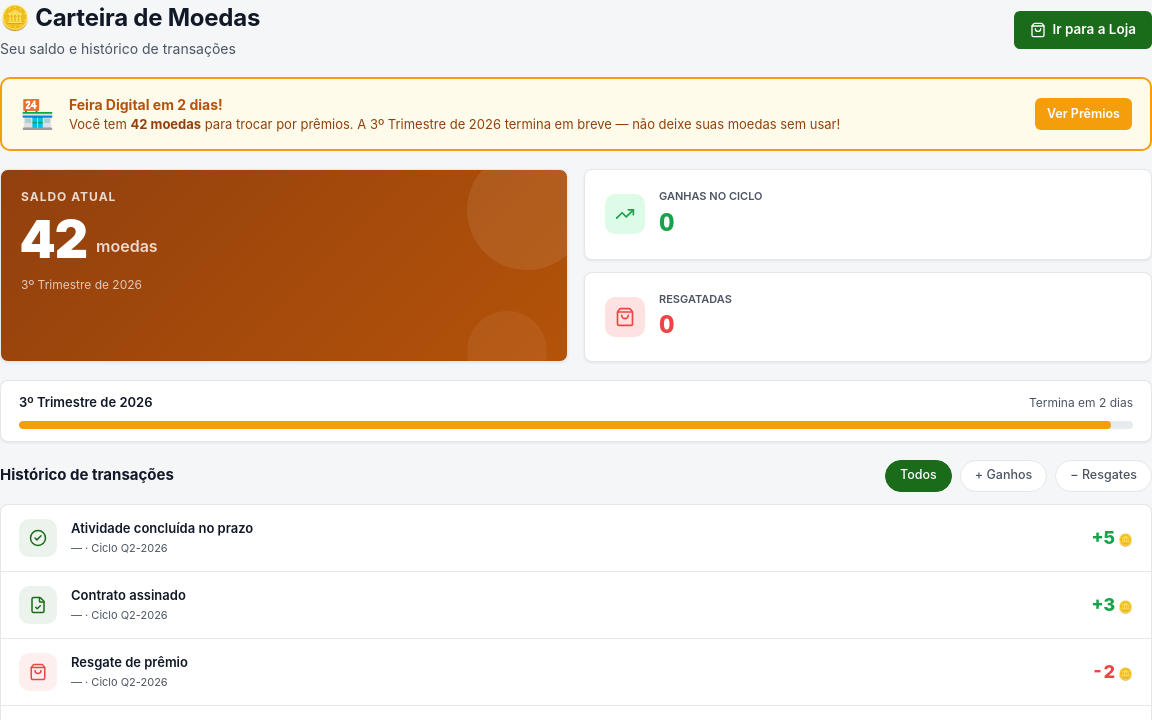
Test: CarteiraPage — lista de transações › filtro "Ganhos" exibe apenas transações positivas
Step 1. Click the button "+ Ganhos" → click(1004, 476), box [960,460,1047,492]
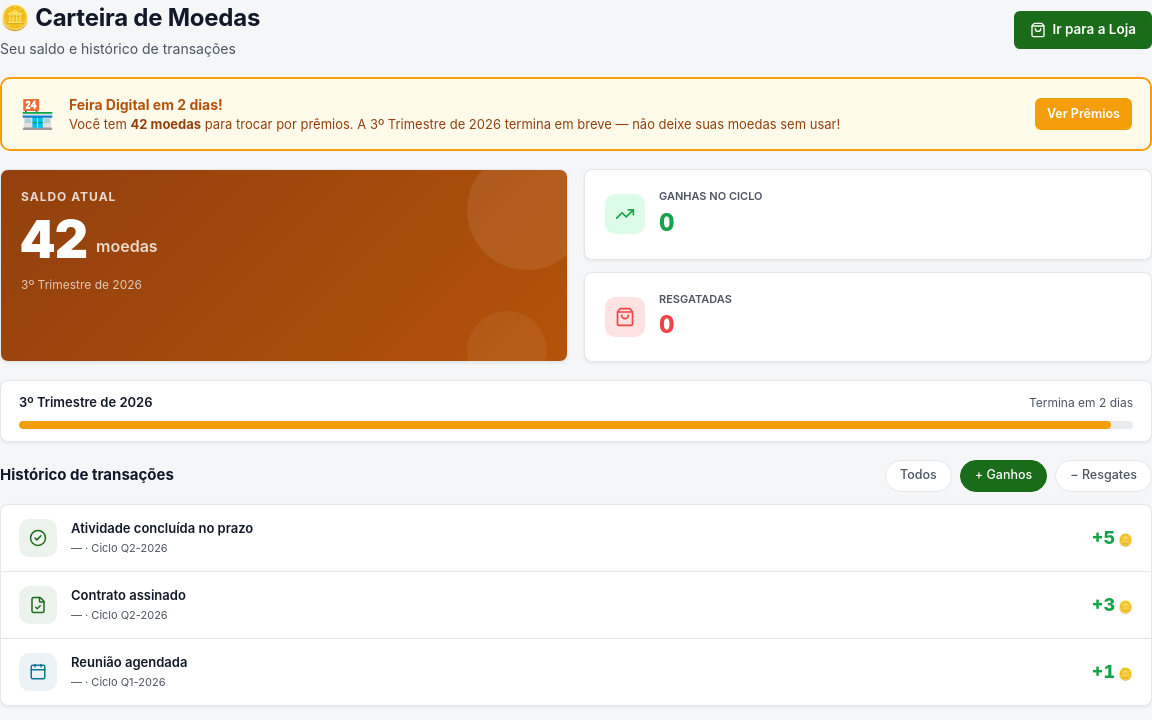
Now the text "Resgate de prêmio" is gone
